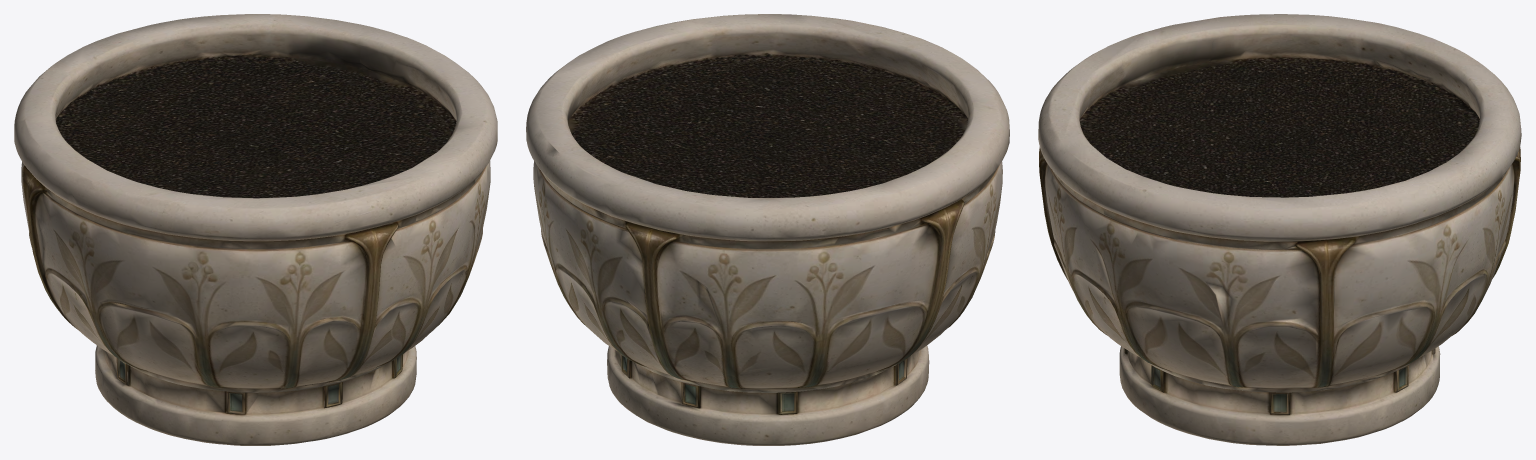
File: planter-v2.glb
3 views of the same model, side by side, from view 1: azimuth 30°, elevation 25°; view 2: azimuth 150°, elevation 25°; view 3: azimuth 270°, elevation 25° (orthographic).
Visible parts, largest first — view 1: planter metre normalization; view 2: planter metre normalization; view 3: planter metre normalization.
Part boxes in pixels (bbox=[...]): planter metre normalization: bbox=[14, 14, 497, 445]; planter metre normalization: bbox=[526, 14, 1009, 445]; planter metre normalization: bbox=[1038, 14, 1521, 445].
Bounding box in the file's own units: 1.08 × 0.665 × 1.08.
1 material, 1 textured.
